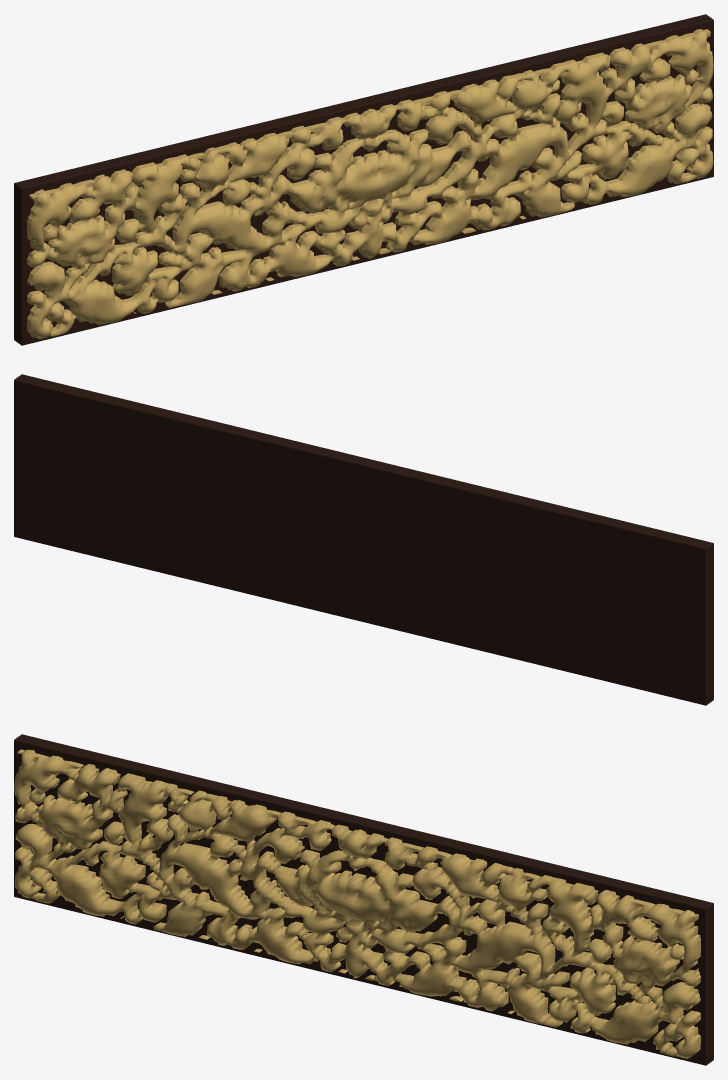
Rendered from ranma-relief.glb.
3 renders of one model, top to bottom at view 1: azimuth 30°, elevation 25°; view 2: azimuth 150°, elevation 25°; view 3: azimuth 330°, elevation 25°, orthographic.
Parts seen in each view (by area): view 1: ranma_gilt_carved_leaves, ranma_deep_wood_backplate; view 2: ranma_deep_wood_backplate; view 3: ranma_gilt_carved_leaves, ranma_deep_wood_backplate.
Part boxes in pixels (x1,y1,x2,y2): ranma_gilt_carved_leaves: (27, 29, 713, 339); ranma_deep_wood_backplate: (14, 14, 713, 345); ranma_deep_wood_backplate: (14, 374, 713, 705); ranma_gilt_carved_leaves: (14, 749, 700, 1058); ranma_deep_wood_backplate: (14, 734, 713, 1065).
Bounding box in the file's own units: 1.32 × 0.286 × 0.0624.
